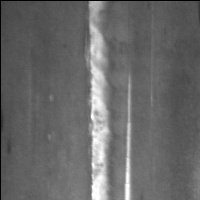scratches: (85, 1, 120, 200), (122, 69, 134, 200)
